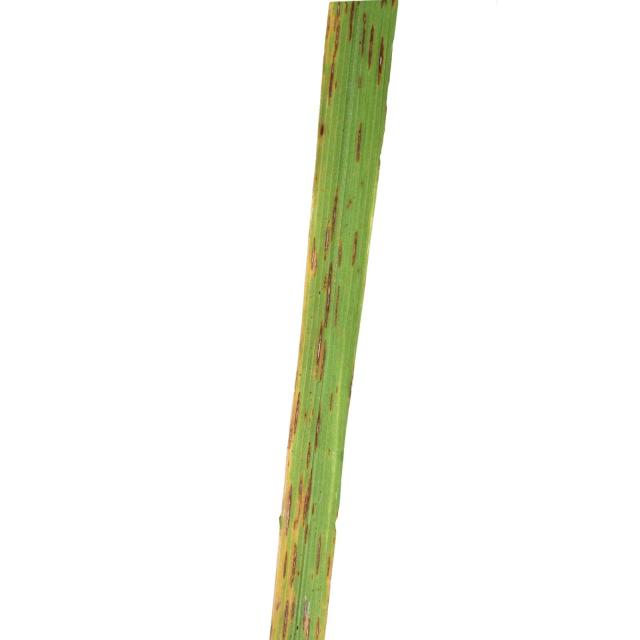Narrow brown: (191, 0, 532, 640)
